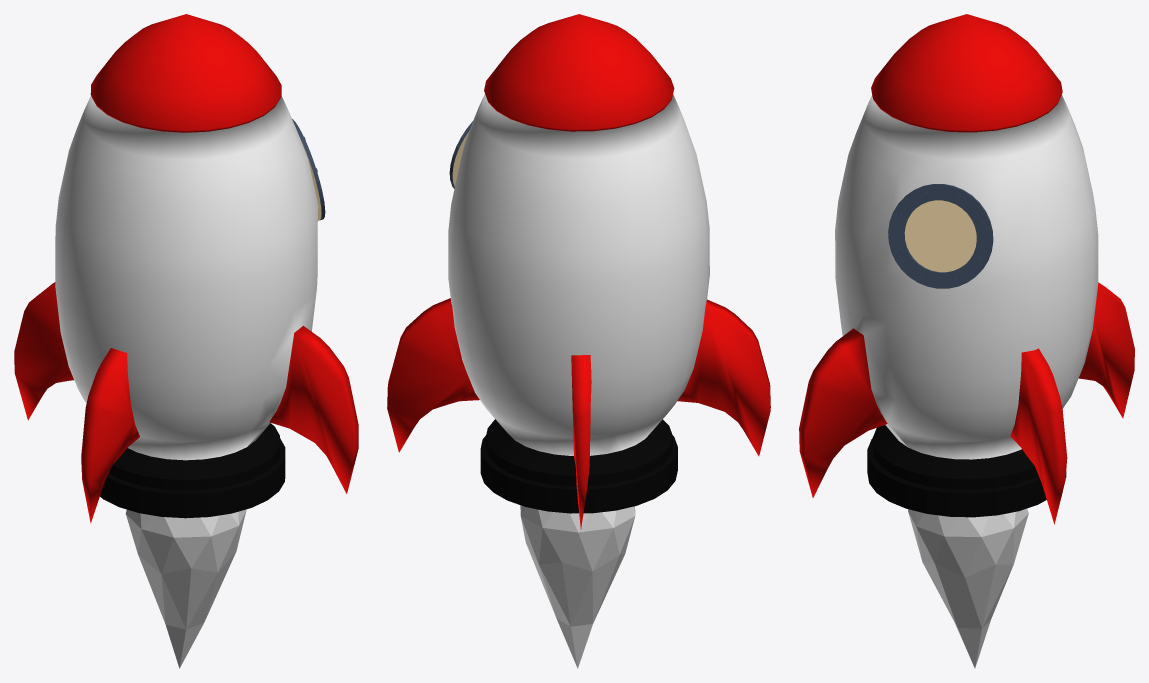
Rendered from Rocket.fbx.
The picture shows the model from 3 angles, left to right: view 1: azimuth 30°, elevation 25°; view 2: azimuth 150°, elevation 25°; view 3: azimuth 270°, elevation 25°; orthographic projection.
Parts seen in each view (by area): view 1: Cylinder, Icosphere; view 2: Cylinder, Icosphere; view 3: Cylinder, Icosphere.
Part boxes in pixels (x1,y1,x2,y2): Cylinder: [14, 14, 358, 523]; Icosphere: [125, 509, 246, 668]; Cylinder: [387, 14, 770, 529]; Icosphere: [520, 505, 635, 668]; Cylinder: [799, 14, 1134, 524]; Icosphere: [908, 508, 1028, 668].
Bounding box in the file's own units: 260 × 550 × 255.
